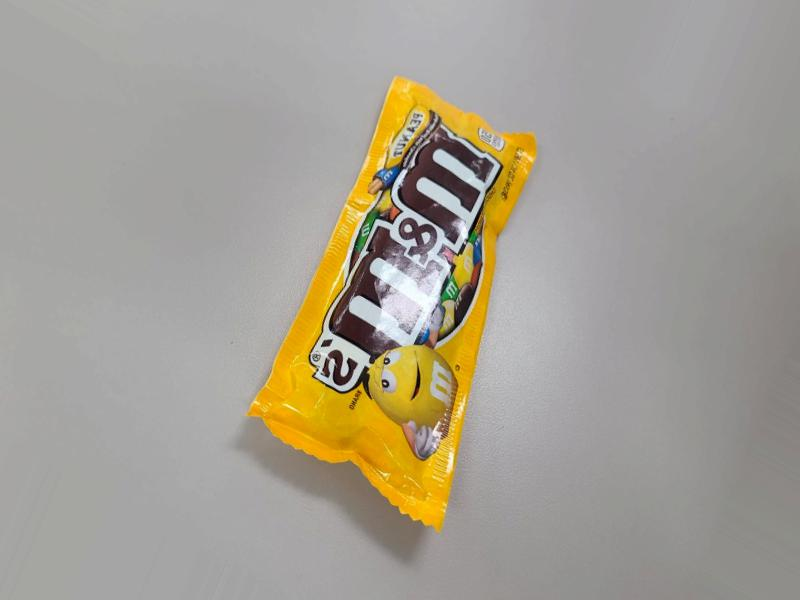m&m: (242, 95, 495, 496)
